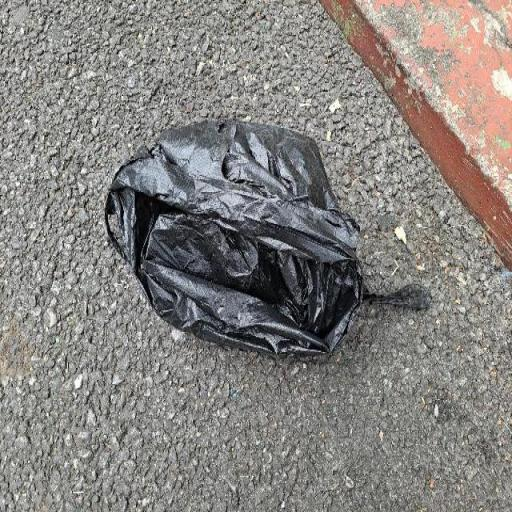plastic-bag: (102, 113, 432, 364)
